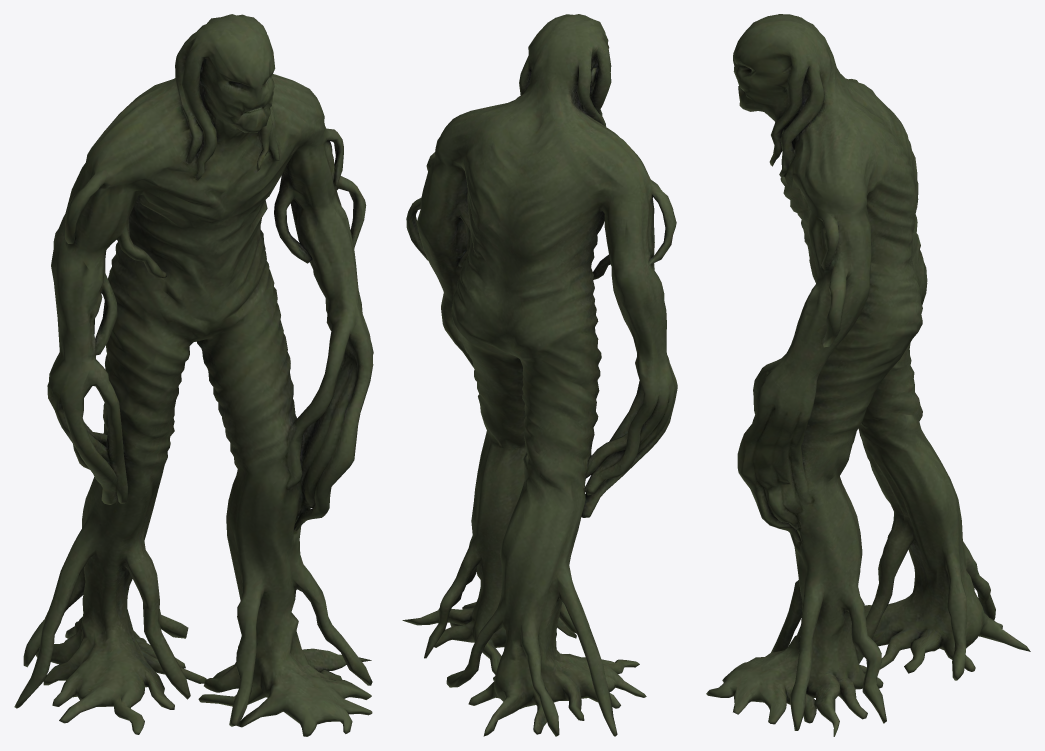
Rendered from MZ4250 - Vine Blight 2.glb.
The picture shows the model from 3 angles, left to right: view 1: azimuth 30°, elevation 25°; view 2: azimuth 150°, elevation 25°; view 3: azimuth 270°, elevation 25°; orthographic projection. The views are drawn at different scales.
Visible parts, largest first — view 1: VineBlight; view 2: VineBlight; view 3: VineBlight.
Part boxes in pixels (box(x1,y1,x2,y2)): VineBlight: box(14, 14, 373, 736); VineBlight: box(402, 14, 677, 736); VineBlight: box(706, 14, 1030, 736).
Bounding box in the file's own units: 0.4499 × 0.9856 × 0.4395.
Materials: 1 (1 with a texture image).
